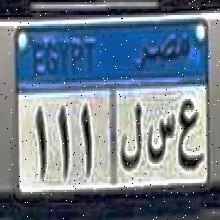1: (76, 101, 96, 176), (54, 102, 72, 180), (34, 101, 50, 179)
ain: (178, 96, 204, 176)
laam: (119, 96, 144, 172)
seen: (147, 112, 176, 167)
